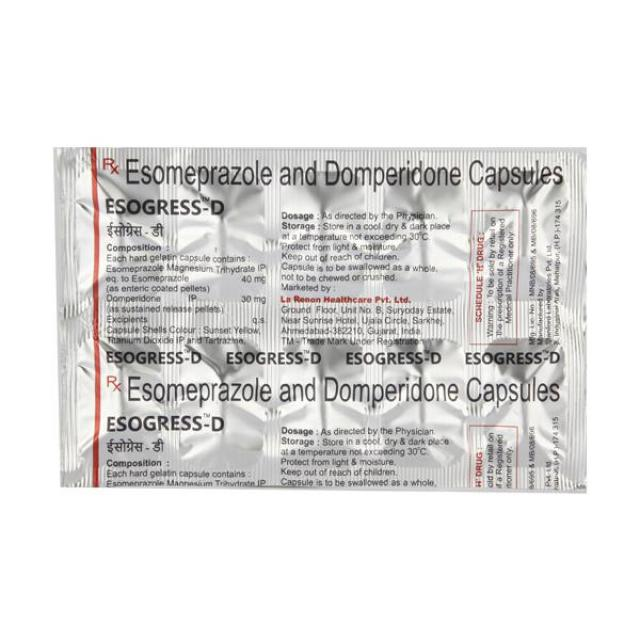Medicine-name: (123, 367, 577, 410)
